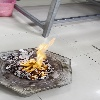fire: (20, 37, 56, 80)
